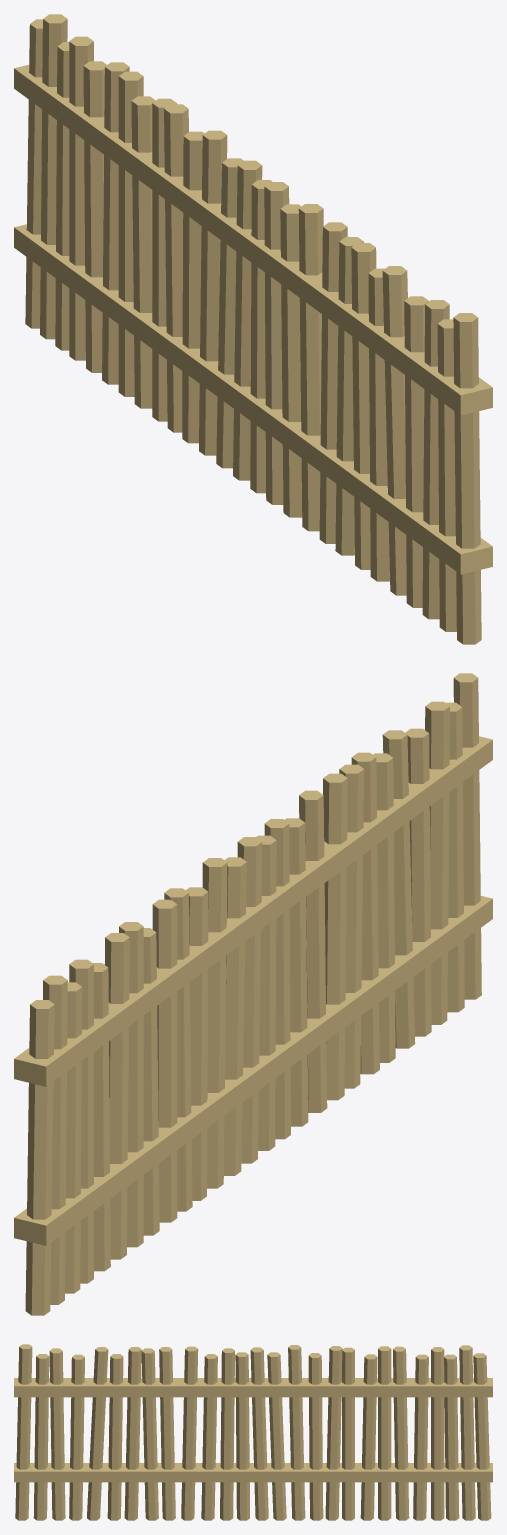
The model's file is Fence short.fbx.
3 renders of one model, top to bottom at view 1: azimuth 30°, elevation 25°; view 2: azimuth 150°, elevation 25°; view 3: azimuth 270°, elevation 25°, orthographic. The views are drawn at different scales.
Visible parts, largest first — view 1: Fence Short; view 2: Fence Short; view 3: Fence Short.
Boxes of the visible parts, <box> form: Fence Short: <box>14,14,492,644</box>; Fence Short: <box>14,673,492,1315</box>; Fence Short: <box>14,1344,492,1520</box>.
Bounding box in the file's own units: 11.95 × 113 × 287.
